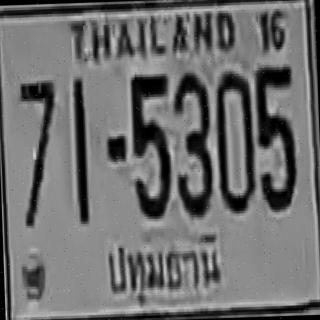N00: (211, 62, 260, 225)
N01: (61, 64, 100, 248)
N03: (174, 65, 216, 224)
N05: (124, 62, 178, 232), (250, 54, 302, 215)
N07: (11, 67, 63, 232)
P38: (98, 223, 238, 299)
